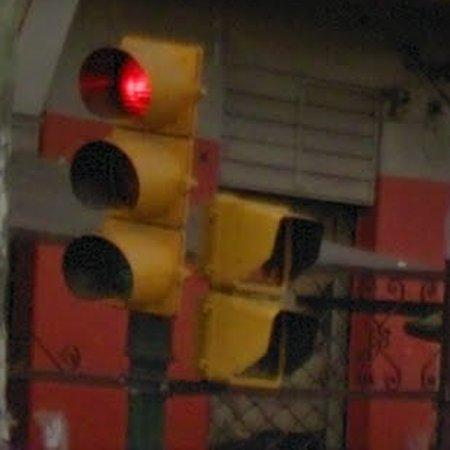traffic lights: (58, 37, 208, 315), (201, 189, 321, 391)
